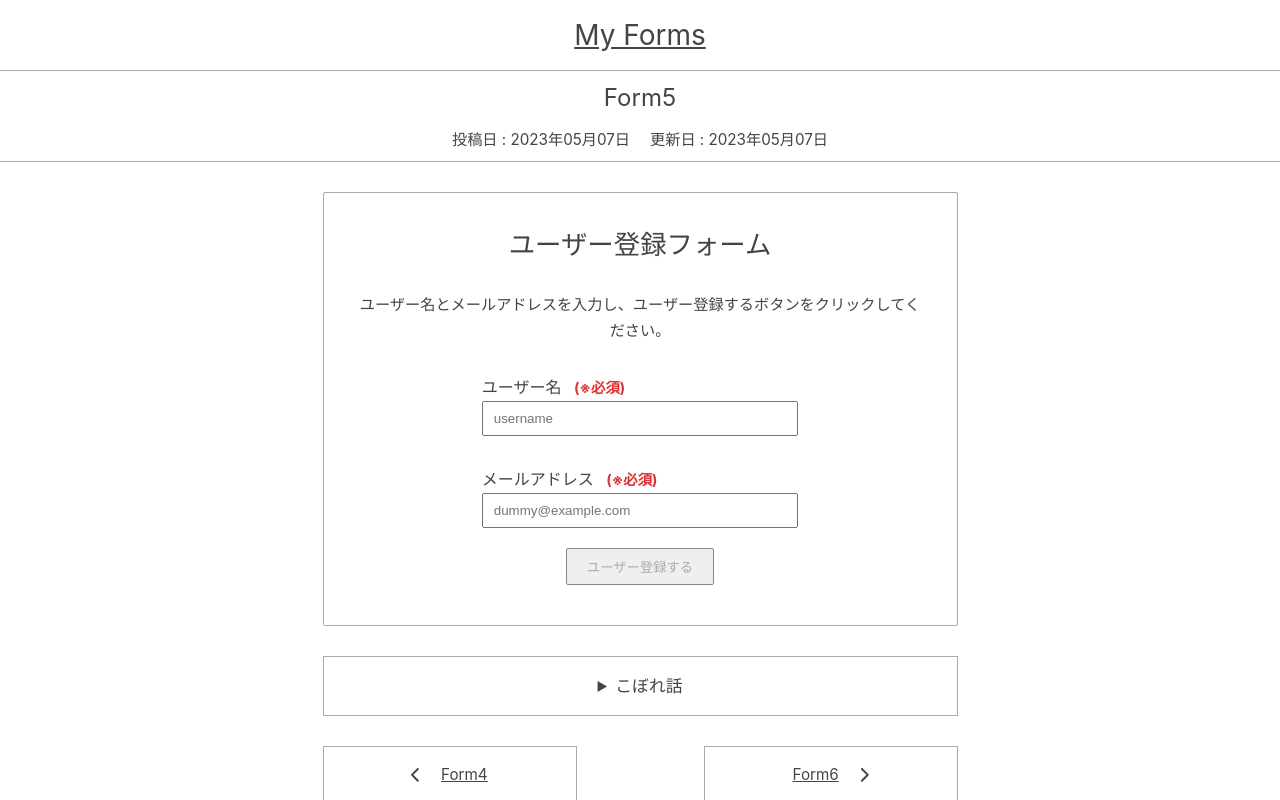
Test: Form4 › フォームにメールアドレスを入力した時、各要素が正しい状態になること › ユーザー名フォームに何も入力せずフォーカスを外し、再度フォーカスした時、エラーメッセージが表示されないこと
The image size is (1280, 800).
Click the field labelled "ユーザー名 (※必須)". click: (640, 418)
box: [482,401,798,436]
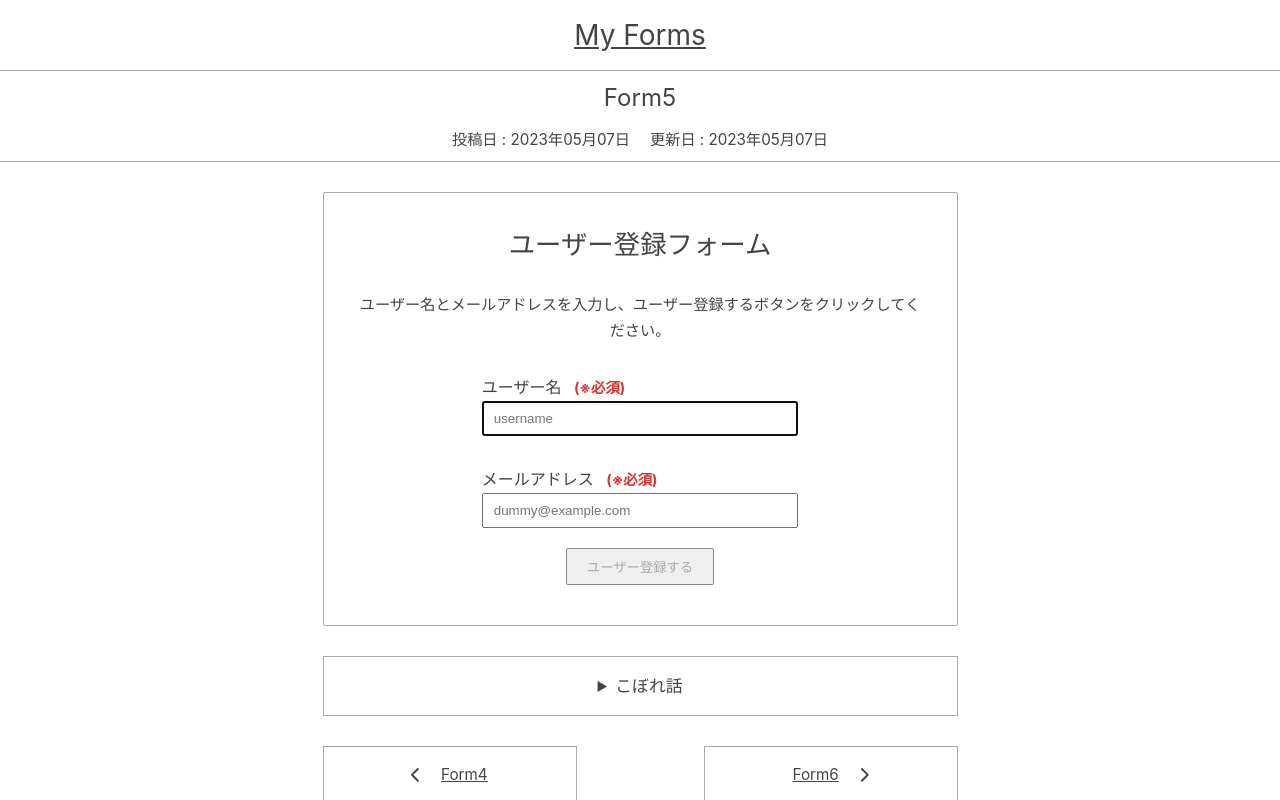
Press Tab
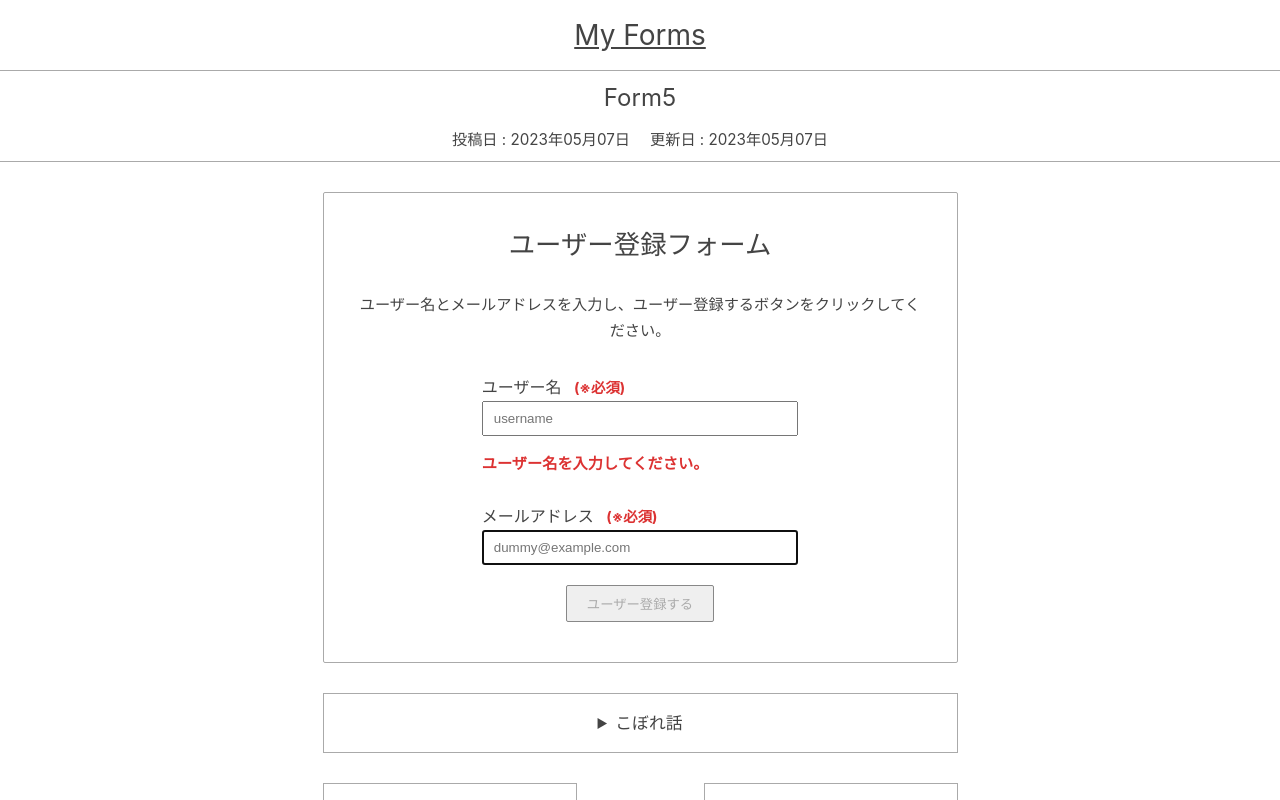
Click the field labelled "ユーザー名 (※必須)". click: (640, 418)
box: [482,401,798,436]
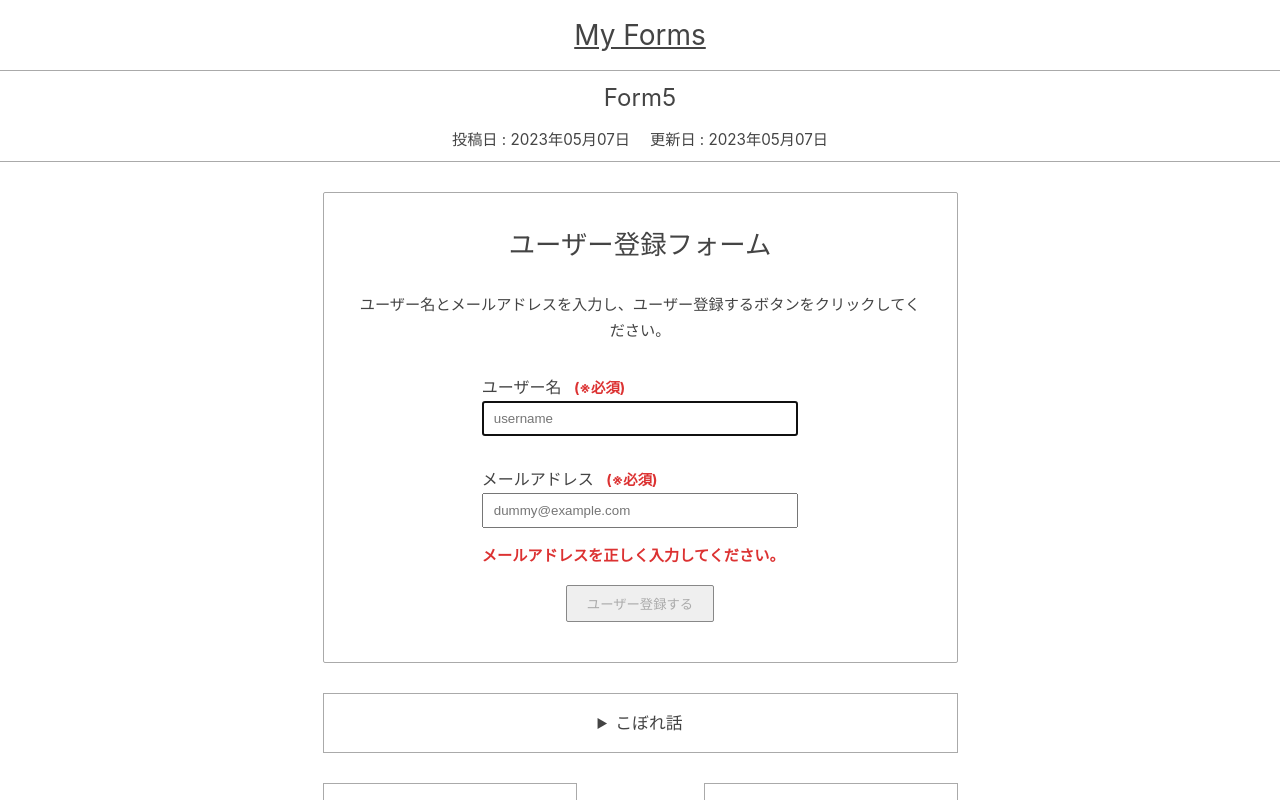
Check: the text with test id "username-error-message" is gone
